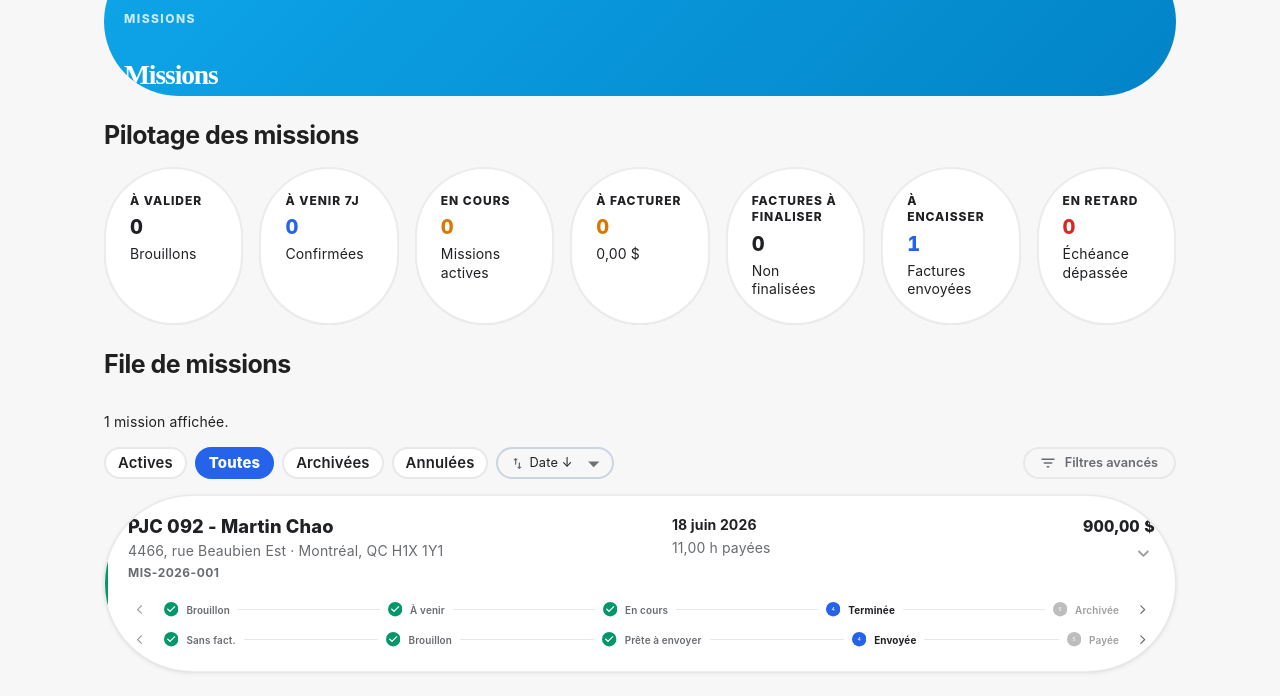
MissionsPage — À faire maintenant CTA ladder › shows inline payment form when Encaisser le solde is clicked
(page scrolled)
Click the button "MIS-2026-001": (640, 584) [105, 496, 1175, 671]
(page scrolled)
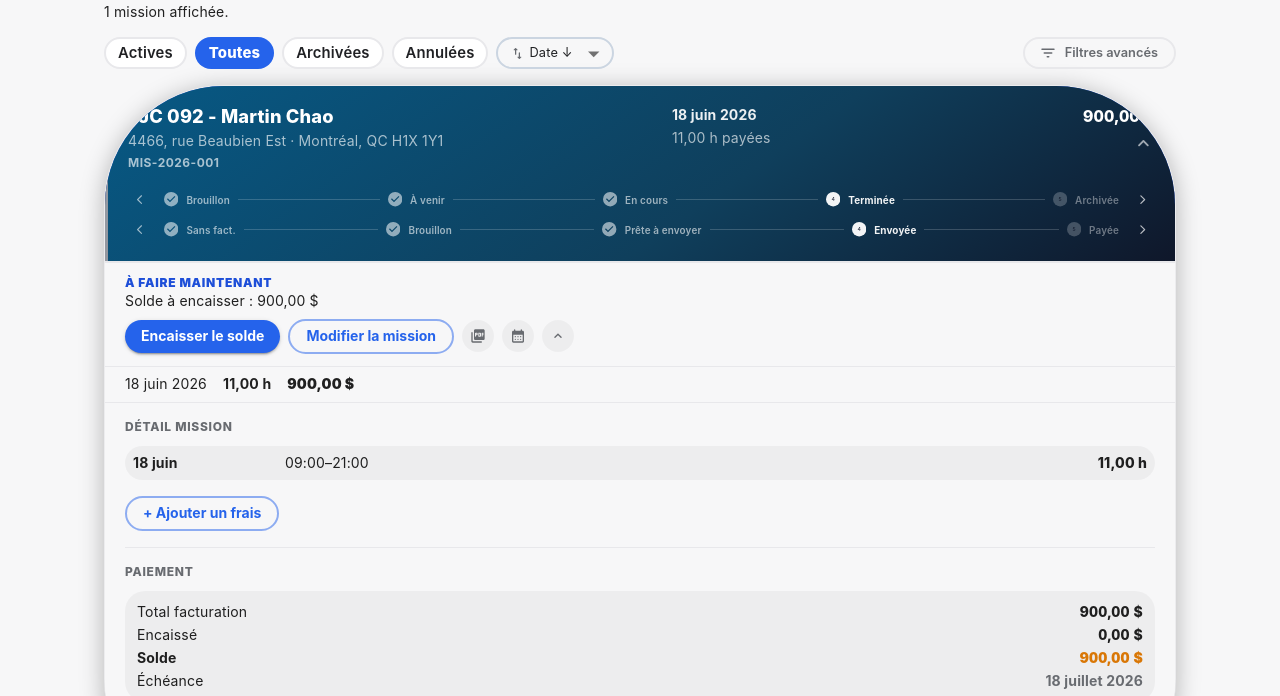
Click the button with test id "cta-add-payment": (203, 336) [125, 320, 280, 353]
(page scrolled)
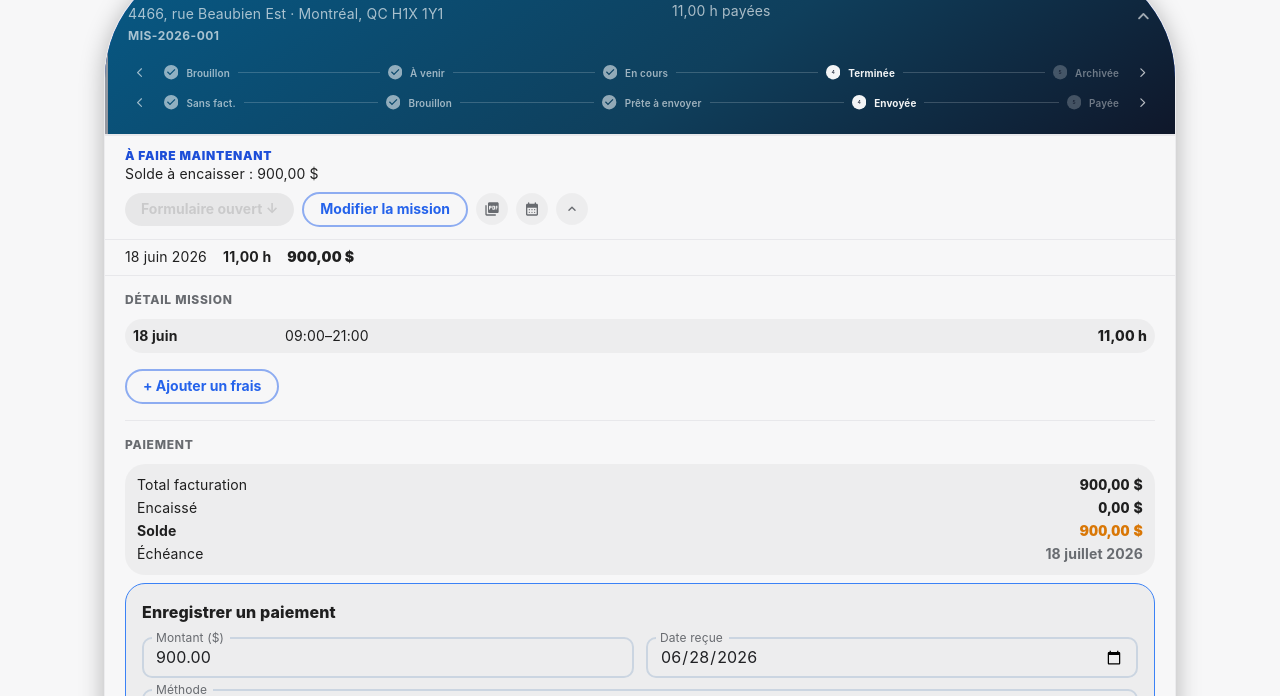
Check: the number field labelled "Montant ($)" is shown, box [142, 638, 634, 678]
Check: the date field labelled "Date reçue" is shown, box [646, 638, 1138, 678]
